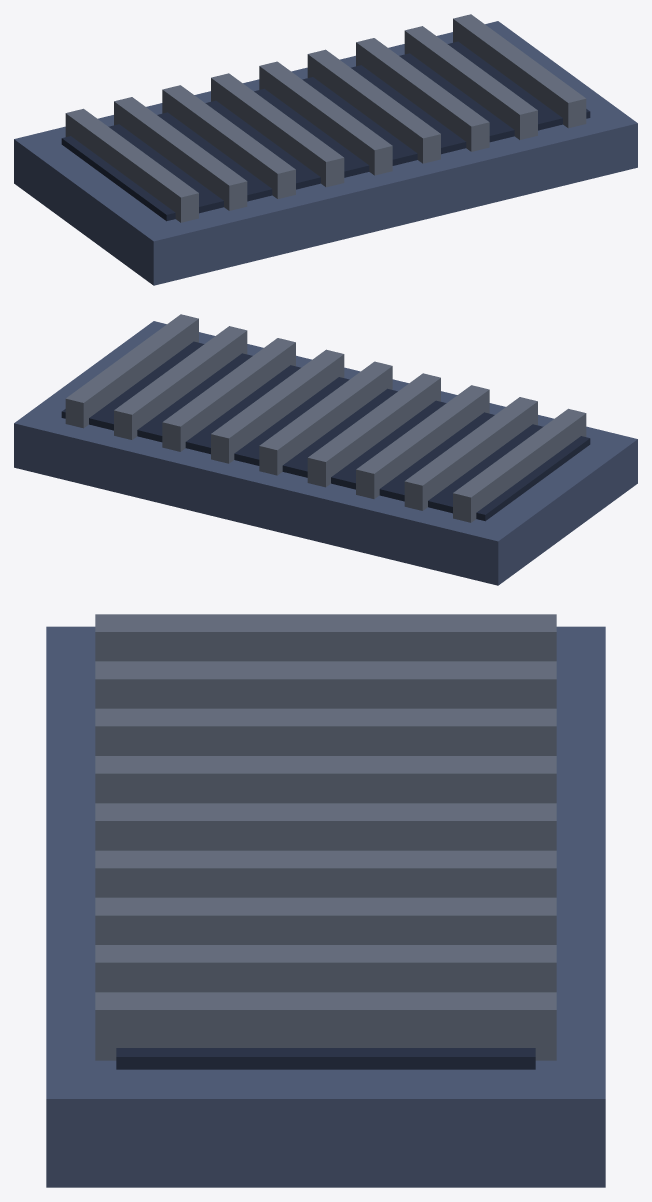
File: drainGrate.glb
3 renders of one model, top to bottom at view 1: azimuth 30°, elevation 25°; view 2: azimuth 150°, elevation 25°; view 3: azimuth 270°, elevation 25°, orthographic. The views are drawn at different scales.
Visible parts, largest first — view 1: drainGrate_mesh; view 2: drainGrate_mesh; view 3: drainGrate_mesh.
Boxes of the visible parts, bbox=[...] form: drainGrate_mesh: bbox=[14, 14, 637, 285]; drainGrate_mesh: bbox=[14, 314, 637, 585]; drainGrate_mesh: bbox=[46, 614, 605, 1187].
Size of the model in its own units: 1.6 by 0.22 by 0.8.
